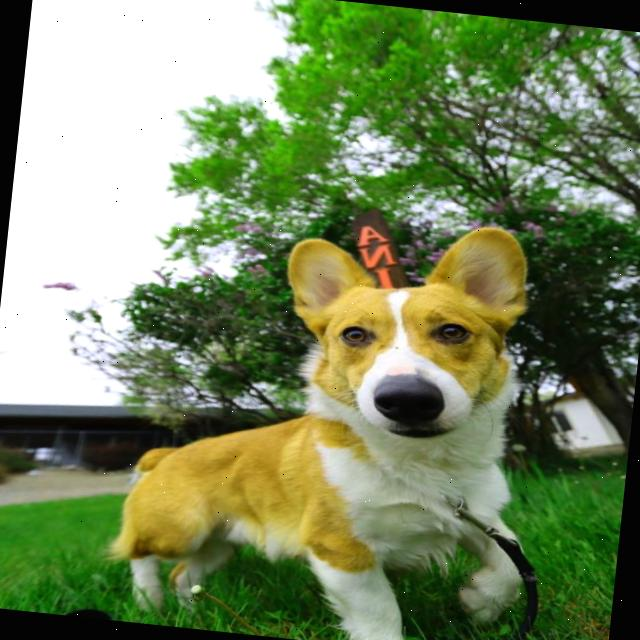corgi_dog: (257, 198, 555, 462)
